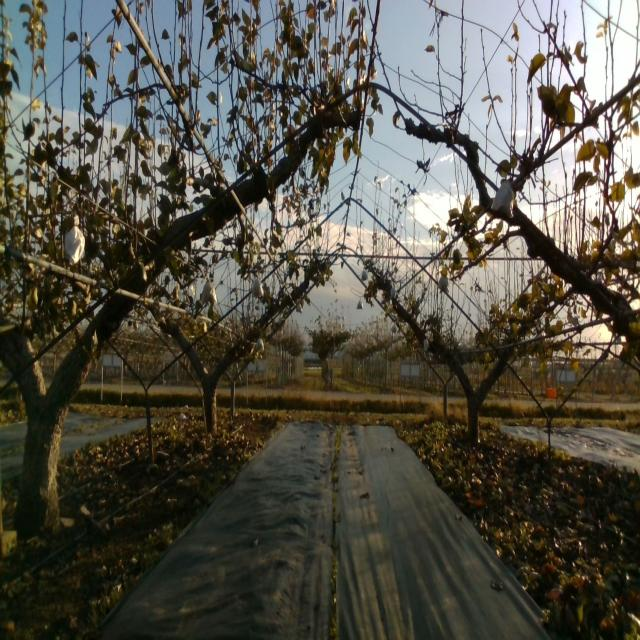pearbags: (490, 178, 516, 222), (64, 214, 85, 264), (200, 278, 218, 307), (250, 276, 263, 300)
